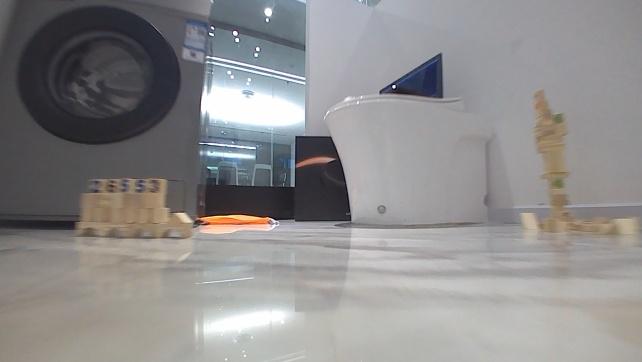plastic_toy: (519, 87, 641, 233), (74, 176, 192, 239)
toilet: (323, 95, 491, 226)
washing_machine: (0, 0, 209, 227)
